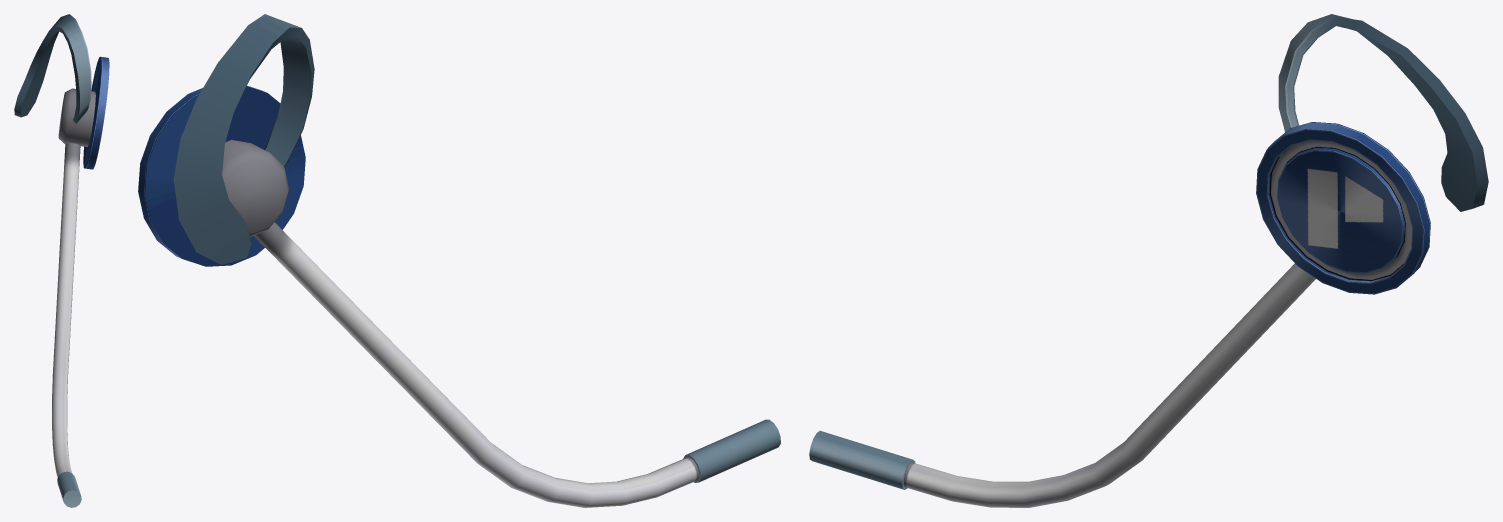
File: EntrainingIntercomNiki.fbx
3 renders of one model, left to right at view 1: azimuth 30°, elevation 25°; view 2: azimuth 150°, elevation 25°; view 3: azimuth 270°, elevation 25°, orthographic. The views are drawn at different scales.
Parts seen in each view (by area): view 1: EntrainingIntercomNiki; view 2: EntrainingIntercomNiki; view 3: EntrainingIntercomNiki.
Part boxes in pixels (x1,y1,x2,y2): EntrainingIntercomNiki: [14, 14, 109, 507]; EntrainingIntercomNiki: [138, 14, 780, 507]; EntrainingIntercomNiki: [809, 14, 1488, 507].
Size of the model in its own units: 0.0483 by 0.0742 by 0.0779.
Materials: 1 (1 with a texture image).
